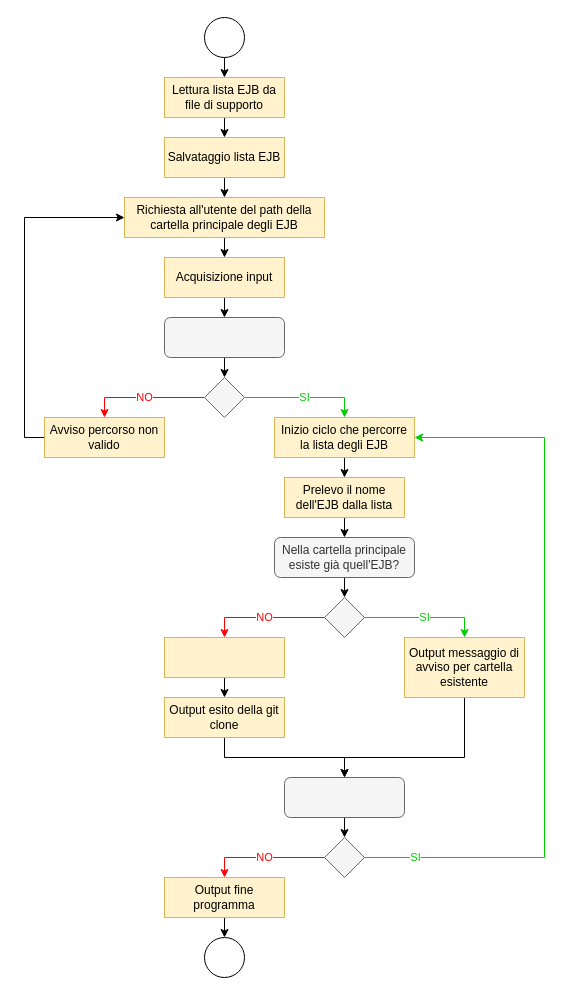
The diagram is 570 pixels wide and 995 high, and some of its shapes have lost their labels. The box of each missing label's shape, as (x1, y1, x2, y2) in pixels:
Ci sono altri EJB nella lista?: (284, 776, 404, 818)
Effettuare la git clone dell'EJB: (164, 636, 284, 678)
fine: (204, 936, 244, 978)
inizio: (204, 16, 244, 58)
Input path valido?: (164, 316, 284, 358)
